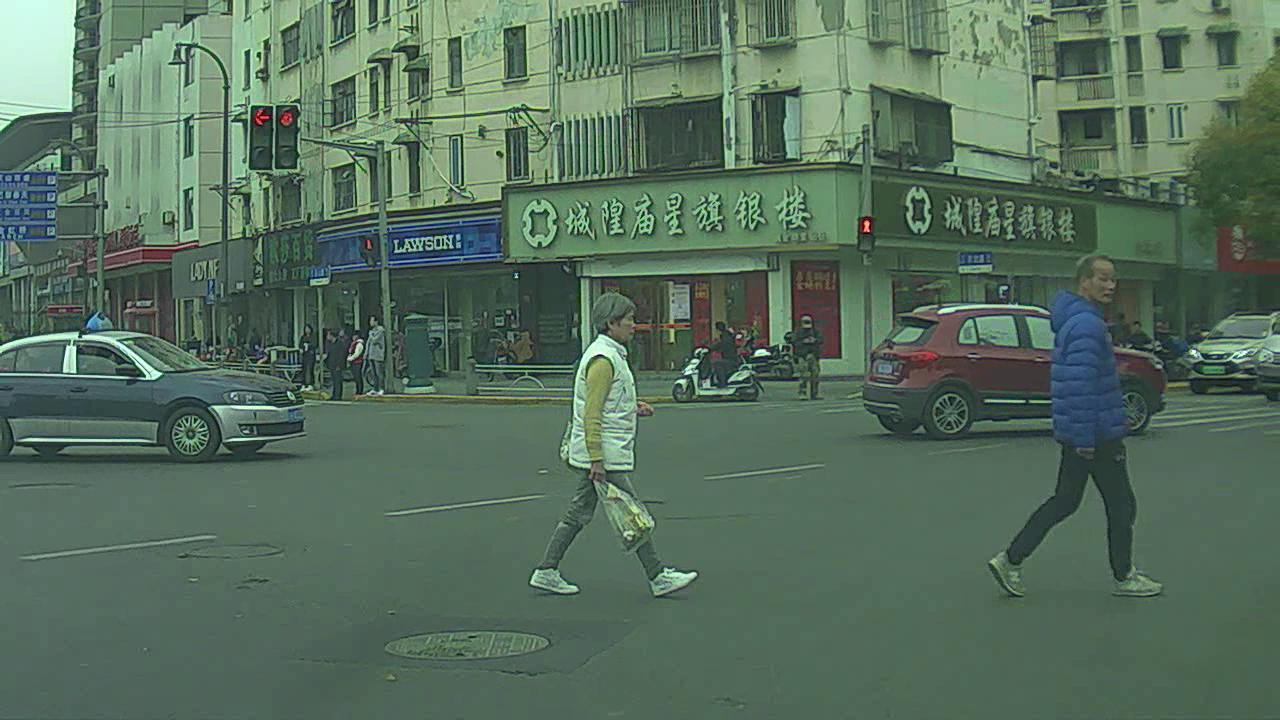traffic_light: (247, 105, 274, 169), (276, 102, 302, 167)
